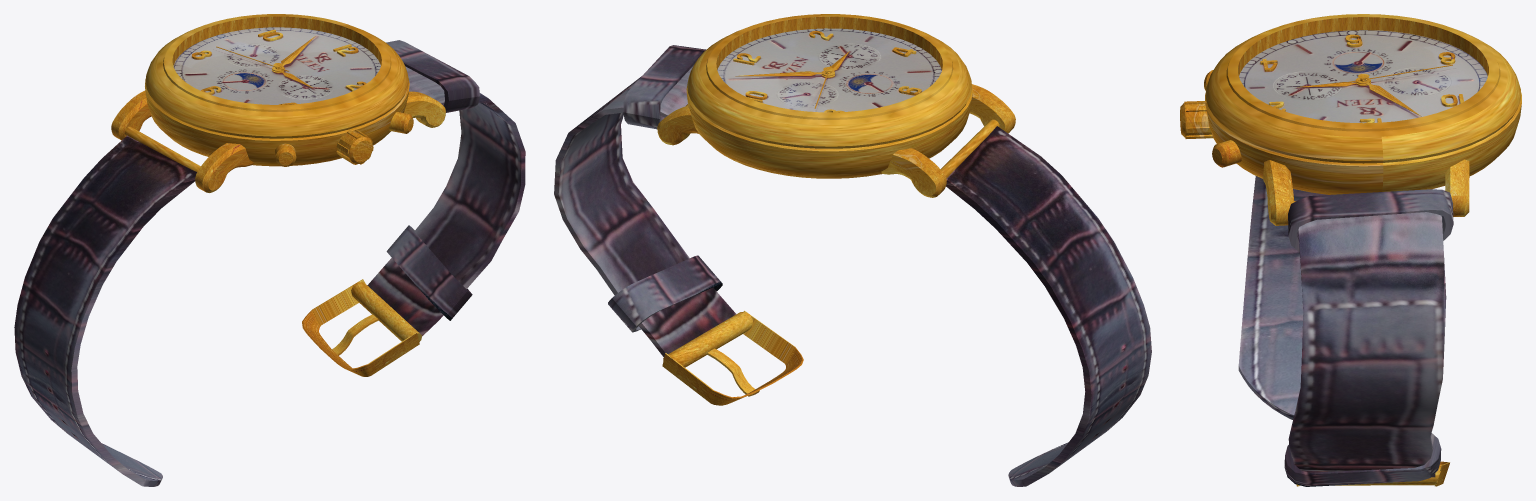
Rendered from handwatch.fbx.
3 views of the same model, side by side, from view 1: azimuth 30°, elevation 25°; view 2: azimuth 150°, elevation 25°; view 3: azimuth 270°, elevation 25° (orthographic). The views are drawn at different scales.
Visible parts, largest first — view 1: Object_2, Object_3; view 2: Object_2, Object_3; view 3: Object_2, Object_3.
Part boxes in pixels (left/top/right/bottom): Object_2: left=14, top=14, right=525, bottom=486; Object_3: left=124, top=27, right=472, bottom=369; Object_2: left=554, top=14, right=1151, bottom=486; Object_3: left=632, top=28, right=1004, bottom=398; Object_2: left=1180, top=14, right=1521, bottom=486; Object_3: left=1184, top=30, right=1487, bottom=474.
Bounding box in the file's own units: 14.87 × 10.92 × 7.74.
